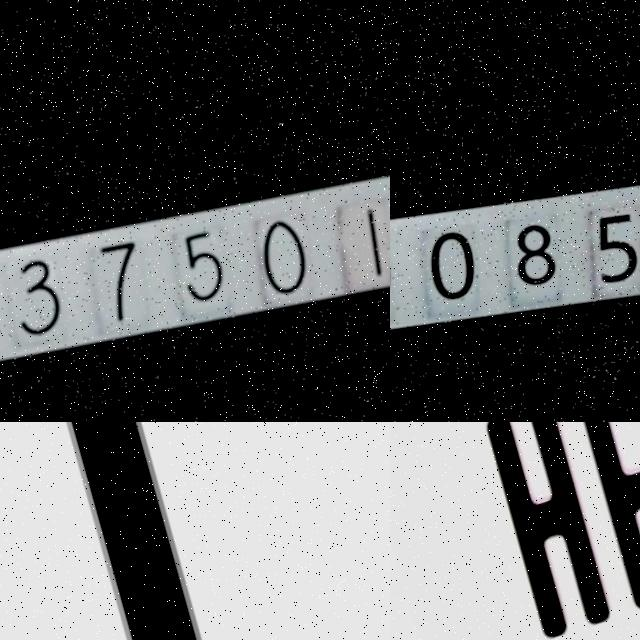0: (231, 193, 337, 308), (403, 206, 503, 317)
1: (317, 183, 390, 293)
3: (0, 235, 90, 350)
5: (154, 208, 253, 315), (567, 187, 640, 297)
7: (67, 219, 176, 338)
8: (490, 199, 581, 301)
9: (390, 216, 420, 328)
E: (560, 422, 640, 612)
H: (465, 422, 629, 640)
T: (0, 422, 358, 640)
